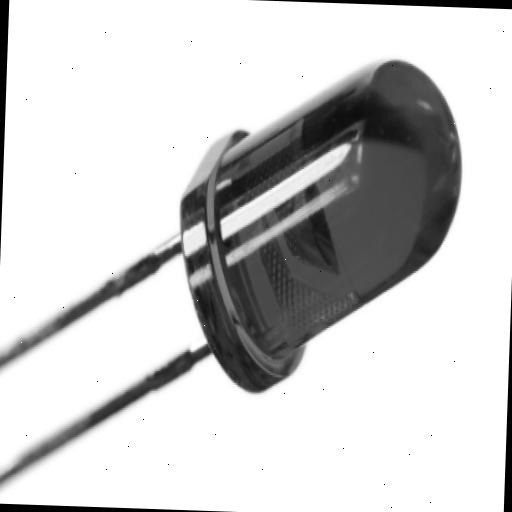LED: (0, 15, 508, 464)
